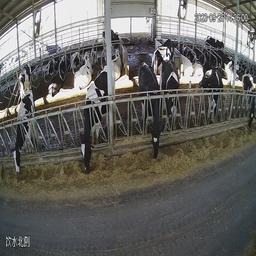cow: (80, 67, 116, 179), (137, 61, 166, 160), (14, 87, 34, 176), (201, 66, 223, 127), (161, 58, 178, 135), (153, 40, 176, 75), (72, 58, 94, 90), (215, 53, 233, 88), (243, 71, 255, 123), (46, 64, 66, 95), (17, 61, 33, 99), (104, 46, 121, 81), (187, 50, 201, 76), (178, 50, 193, 74), (204, 36, 225, 51), (68, 48, 79, 74), (44, 57, 55, 78), (83, 50, 96, 67)
